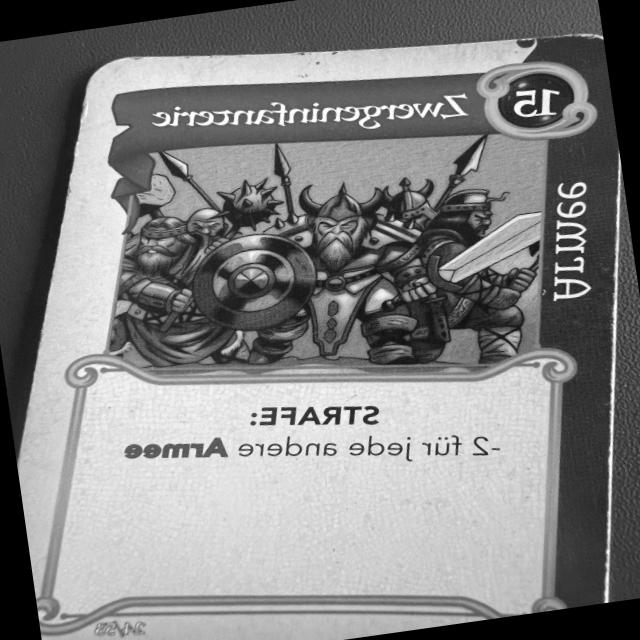Dwarvish Infantry: (17, 34, 619, 640)
